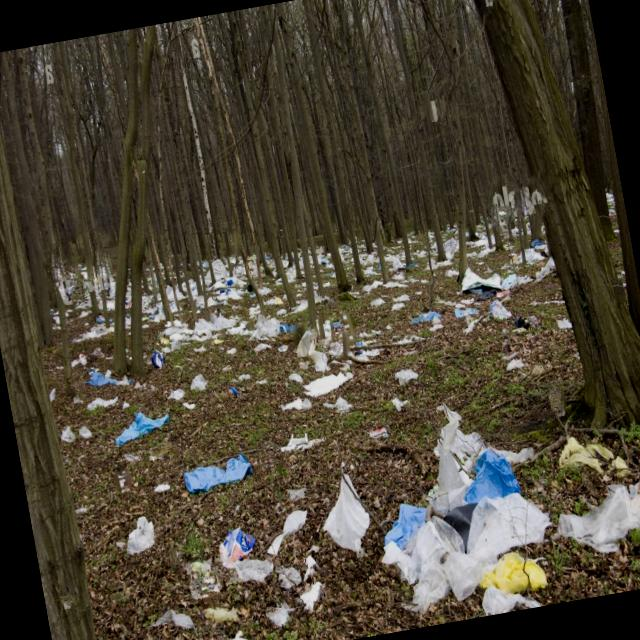garbage: (39, 172, 559, 435), (351, 359, 566, 632)
